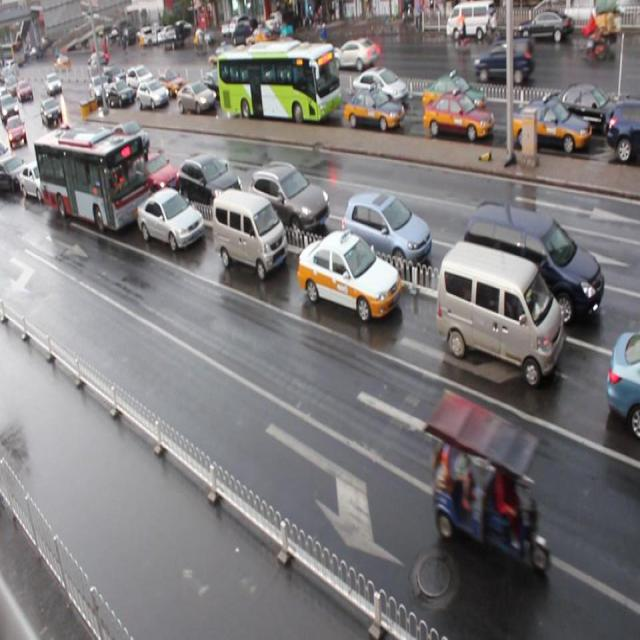car: (298, 228, 402, 322), (342, 192, 432, 276), (250, 161, 330, 234), (512, 98, 592, 156), (541, 84, 625, 139), (137, 186, 205, 251), (178, 151, 244, 213), (605, 329, 640, 434), (424, 92, 494, 140), (344, 84, 404, 133), (427, 74, 490, 118), (137, 146, 181, 195), (352, 68, 407, 107), (606, 97, 640, 159), (21, 157, 58, 202), (84, 132, 122, 171), (282, 67, 322, 102), (109, 122, 151, 154), (177, 81, 216, 115), (1, 152, 30, 194), (137, 80, 168, 110), (202, 70, 228, 98), (106, 81, 132, 107), (159, 71, 183, 97), (126, 65, 153, 88)
truck: (437, 240, 562, 388), (464, 198, 604, 328), (212, 187, 288, 278)
van: (35, 126, 154, 234), (216, 44, 340, 123)
